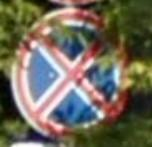No Parking: (10, 7, 130, 145)
